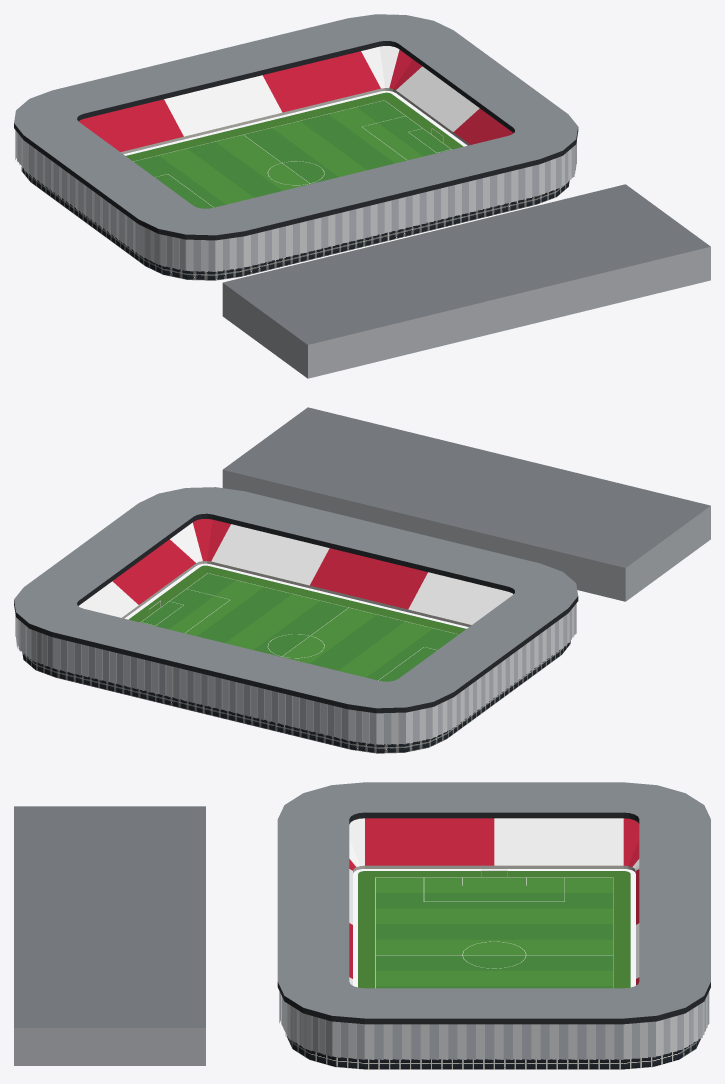
The model's file is stade_thoune.glb.
The picture shows the model from 3 angles, top to bottom: view 1: azimuth 30°, elevation 25°; view 2: azimuth 150°, elevation 25°; view 3: azimuth 270°, elevation 25°; orthographic projection. The views are drawn at different scales.
Parts seen in each view (by area): view 1: stade_thoune; view 2: stade_thoune; view 3: stade_thoune.
Part boxes in pixels (box(x1,y1,x2,y2)): stade_thoune: box(14, 14, 710, 378); stade_thoune: box(14, 407, 710, 753); stade_thoune: box(14, 782, 710, 1069).
Bounding box in the file's own units: 160 × 17.3 × 200.
2 materials, 2 textured.
